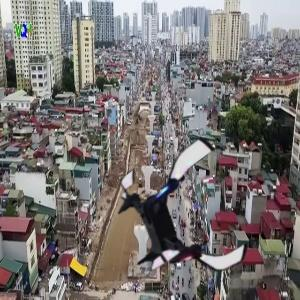drone: (112, 146, 259, 293)
